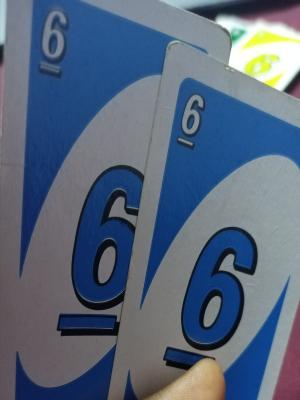blue: (25, 11, 118, 399), (175, 71, 269, 400)
num_6: (37, 6, 73, 86), (180, 91, 204, 161)
